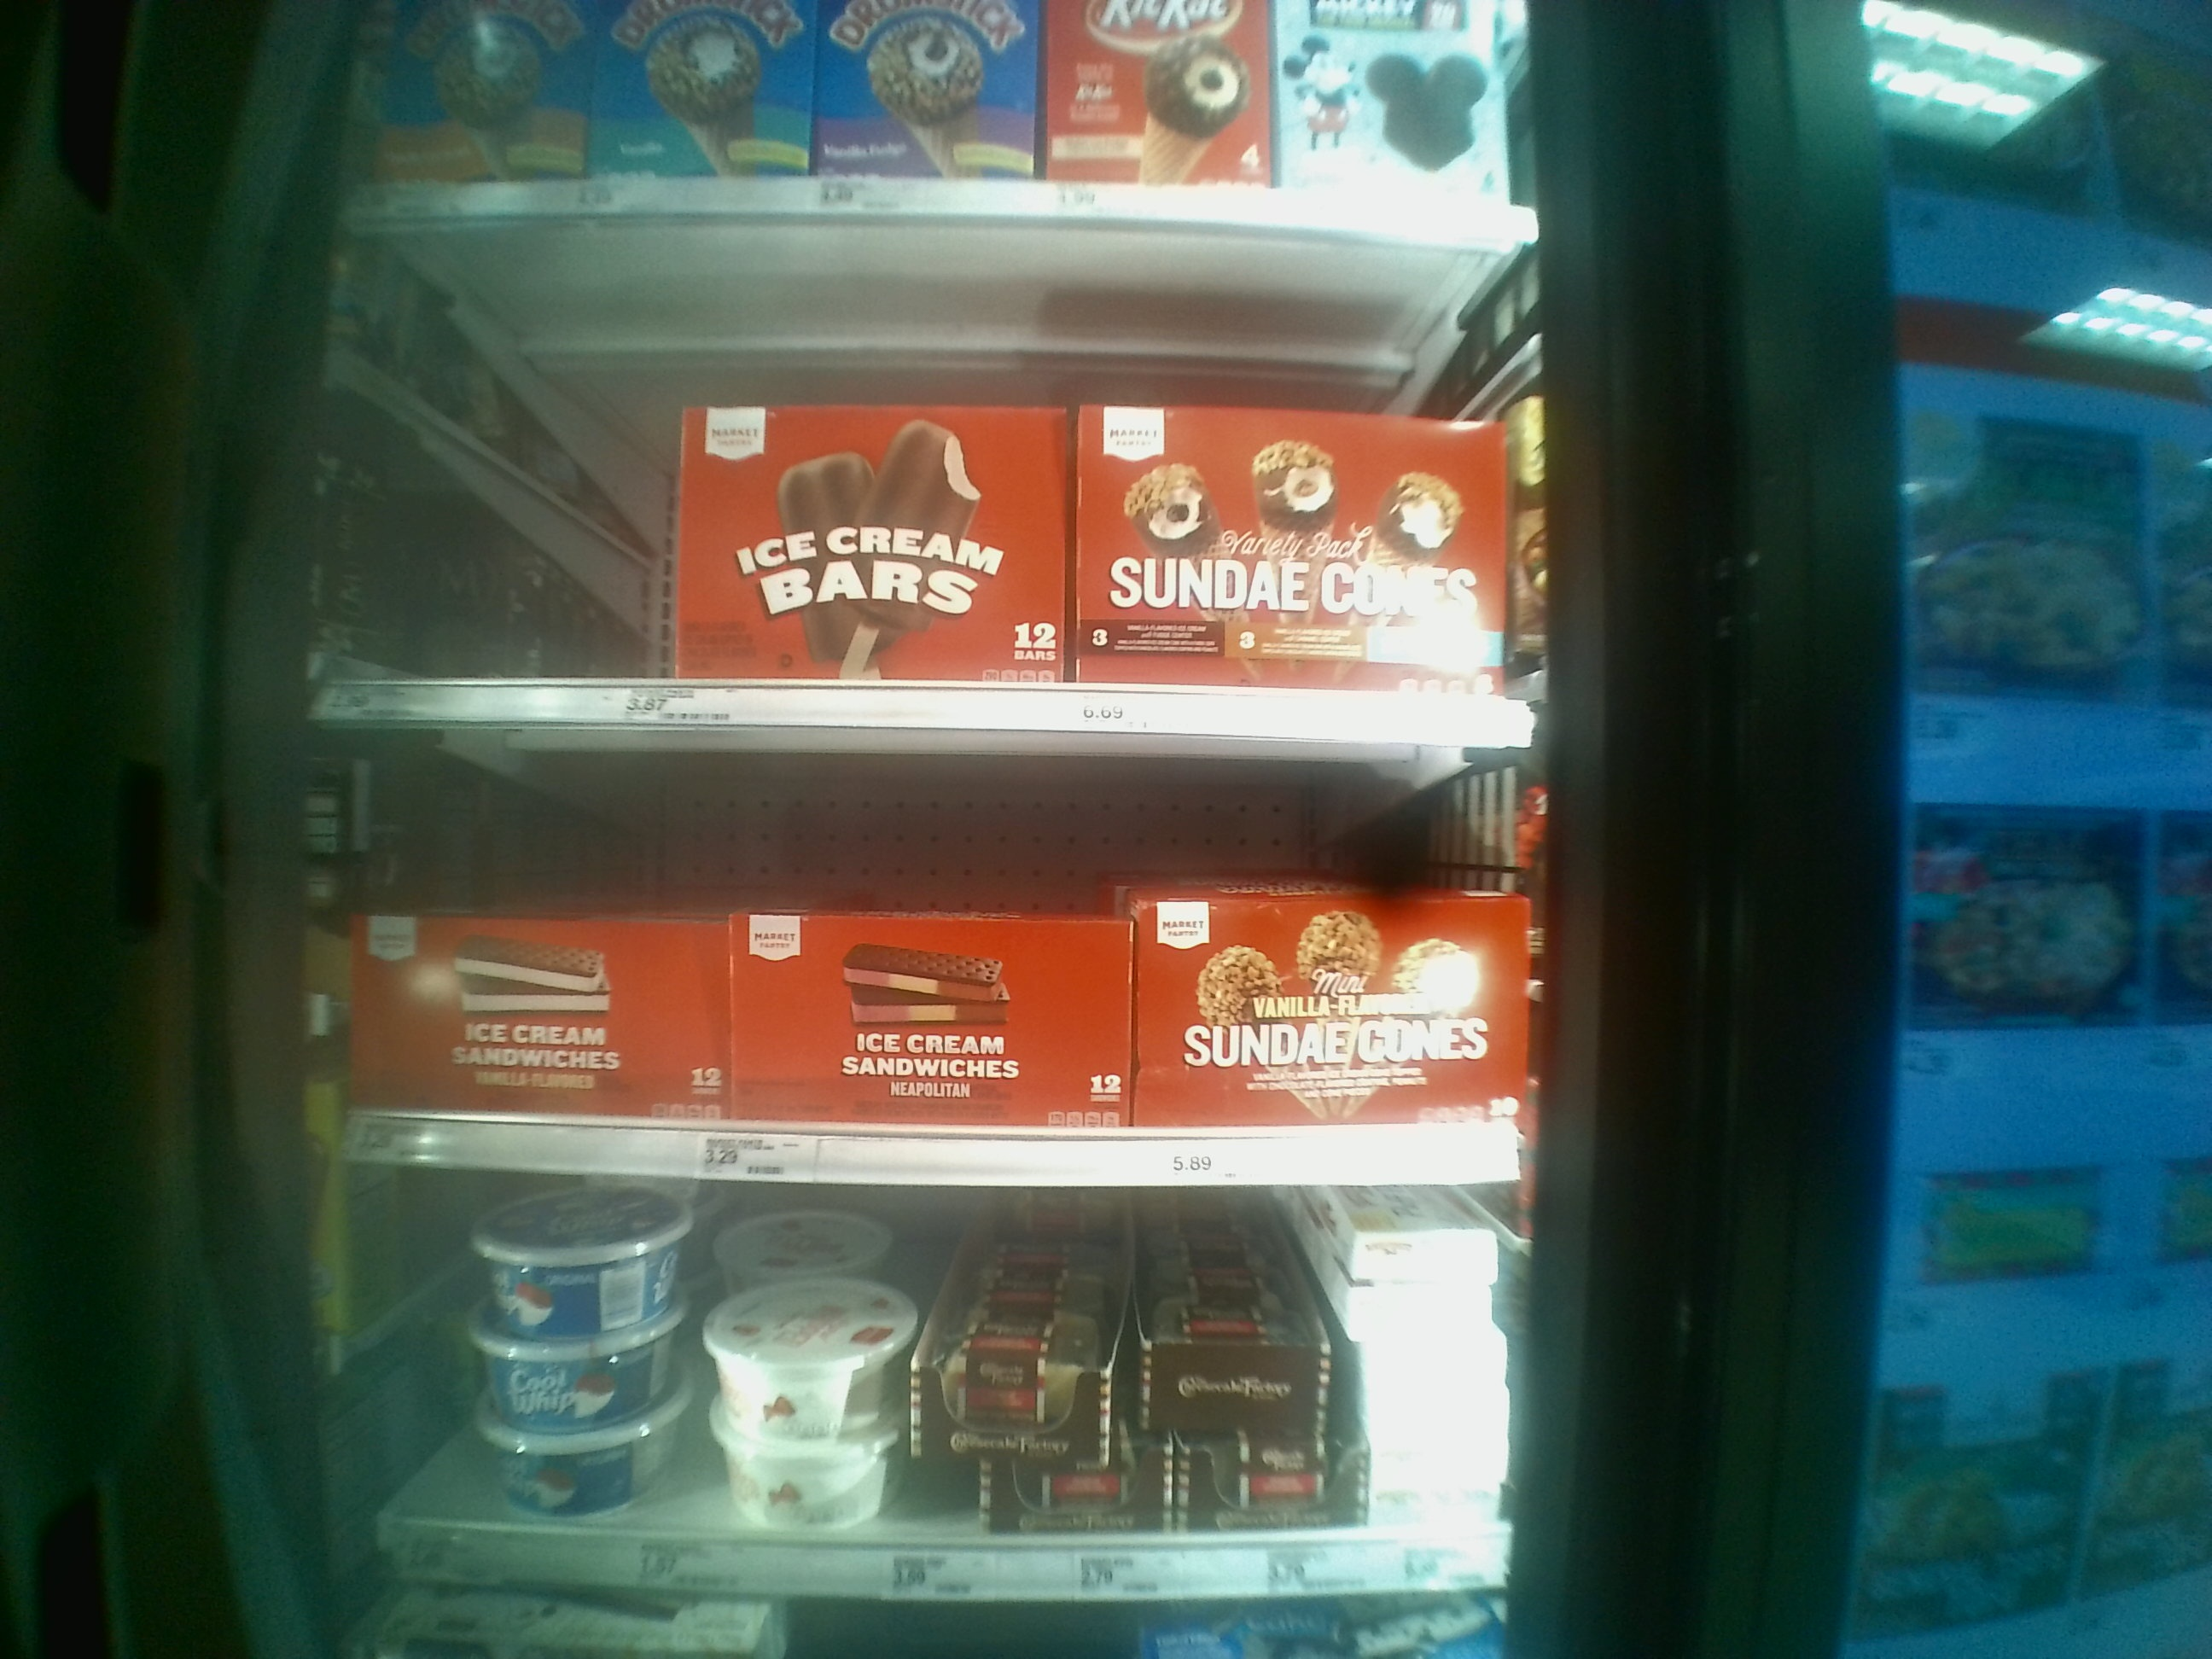shelf: (340, 207, 1524, 734), (308, 728, 1519, 1166), (343, 1176, 1508, 1596)
